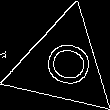O_W: (33, 38, 92, 91)
